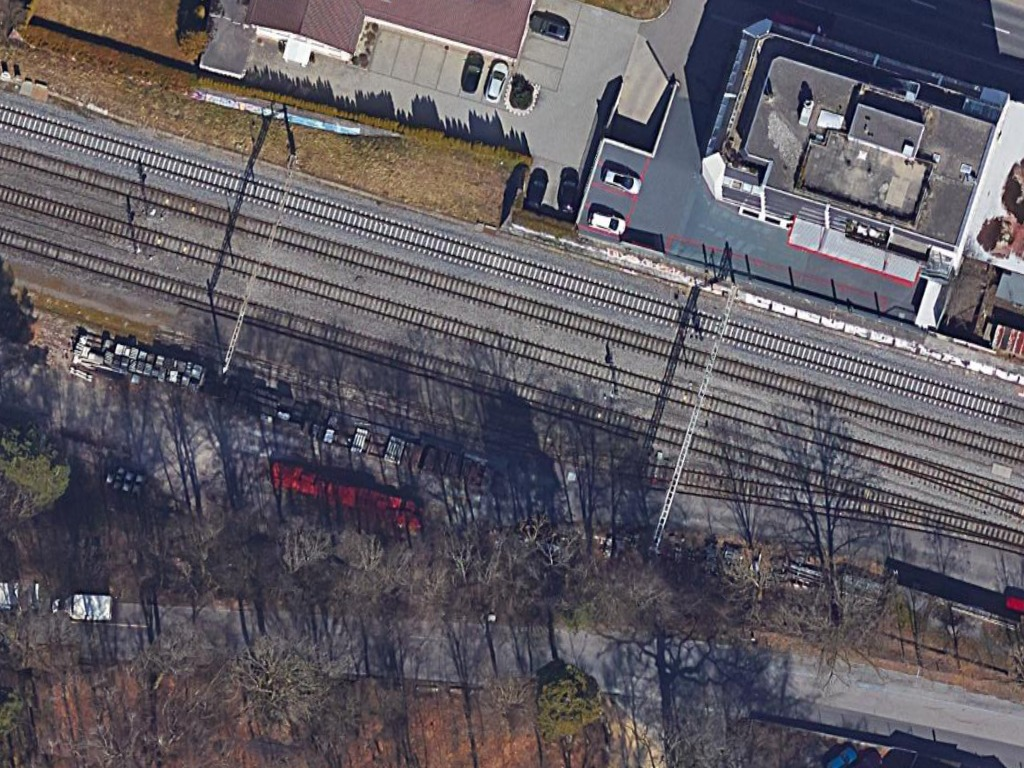car: (528, 11, 575, 44), (479, 59, 510, 108), (599, 164, 645, 197), (584, 206, 630, 236)
